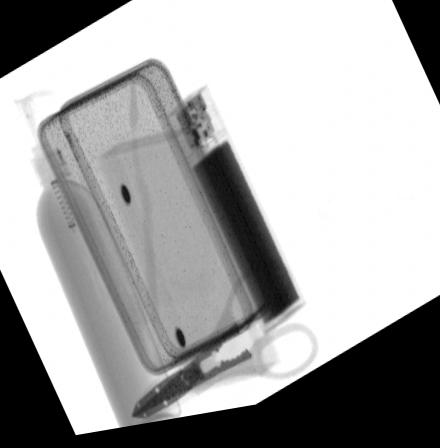Powerbank: (158, 90, 309, 346)
Scissors: (125, 272, 317, 427)
